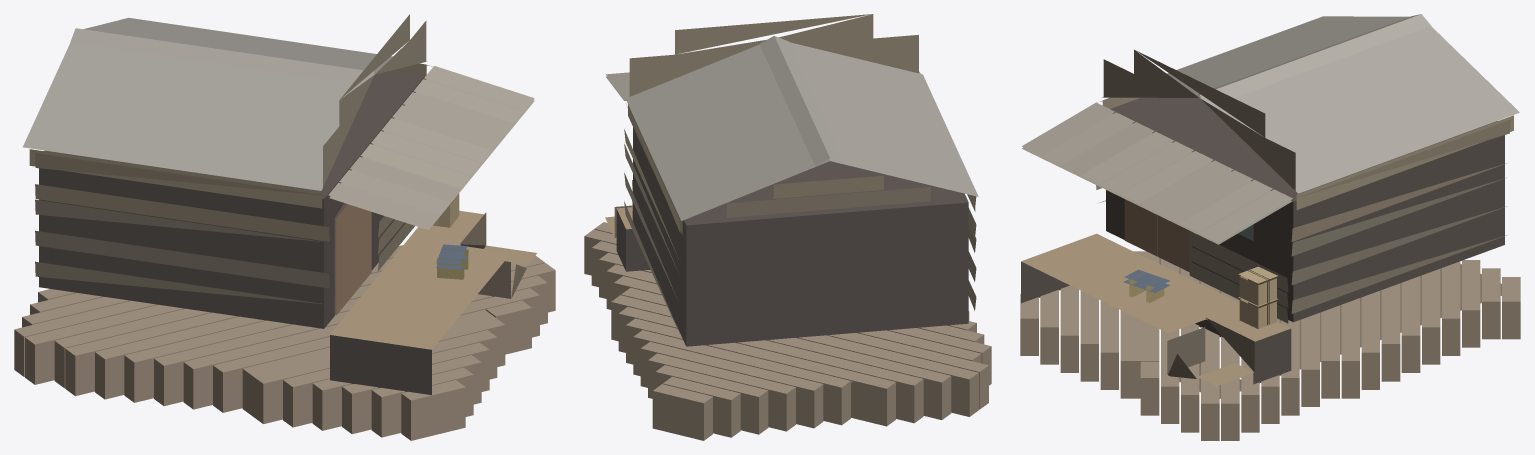
File: house_5.lod.glb
3 renders of one model, left to right at view 1: azimuth 30°, elevation 25°; view 2: azimuth 150°, elevation 25°; view 3: azimuth 270°, elevation 25°, orthographic. The views are drawn at different scales.
Parts seen in each view (by area): view 1: house_5; view 2: house_5; view 3: house_5.
Boxes of the visible parts, x1,y1,x2,y2 form: house_5: [14, 14, 555, 440]; house_5: [584, 14, 991, 440]; house_5: [1020, 14, 1520, 440].
Size of the model in its own units: 12.48 by 7.61 by 12.46.
